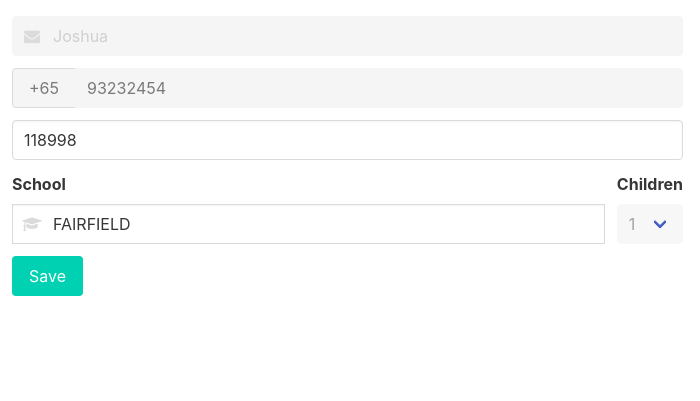
Test case: Settings.vue › methods › should successfully update profile object after save button is clicked
Note: // Trigger click event of submit button
Click the button "Save" at (48,276), box [12,256,83,296]
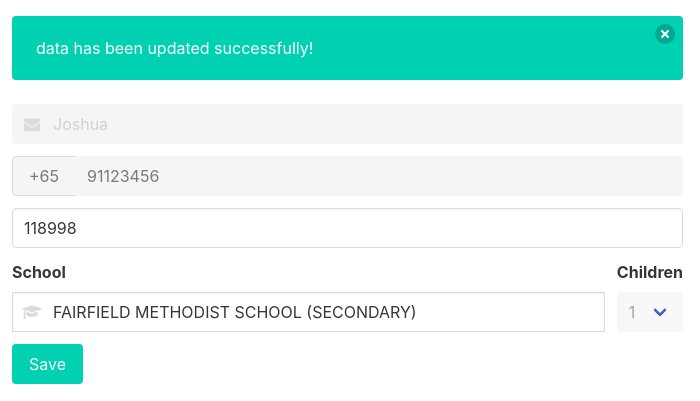
Check: the element showing "data has been updated successfully!" is shown, box [12,16,683,80]
